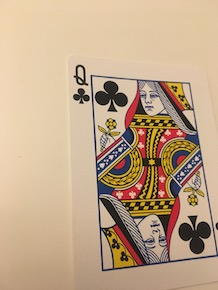QueenOfClubs: (62, 47, 218, 288)
